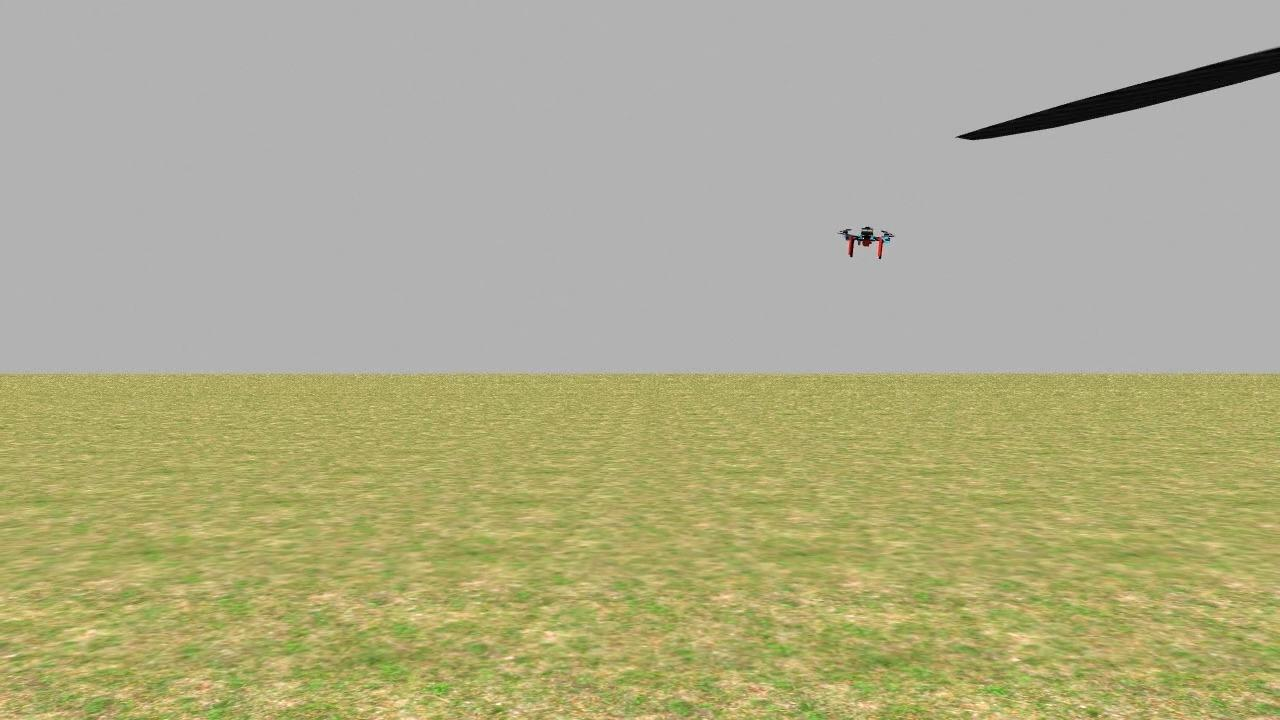UAV: (823, 216, 907, 266)
